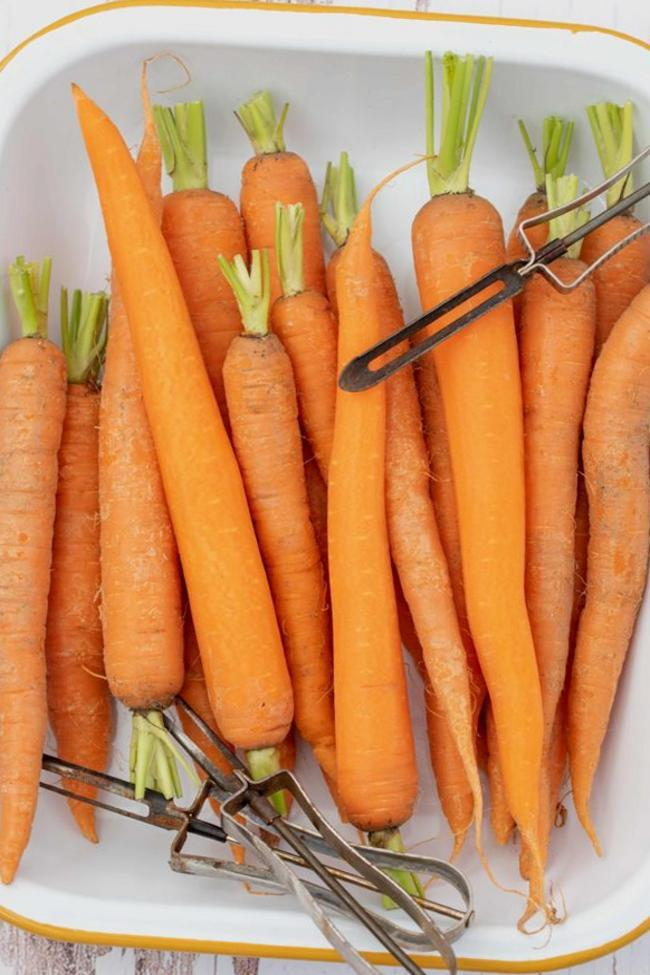carrot: (105, 123, 614, 844), (0, 277, 110, 844)
